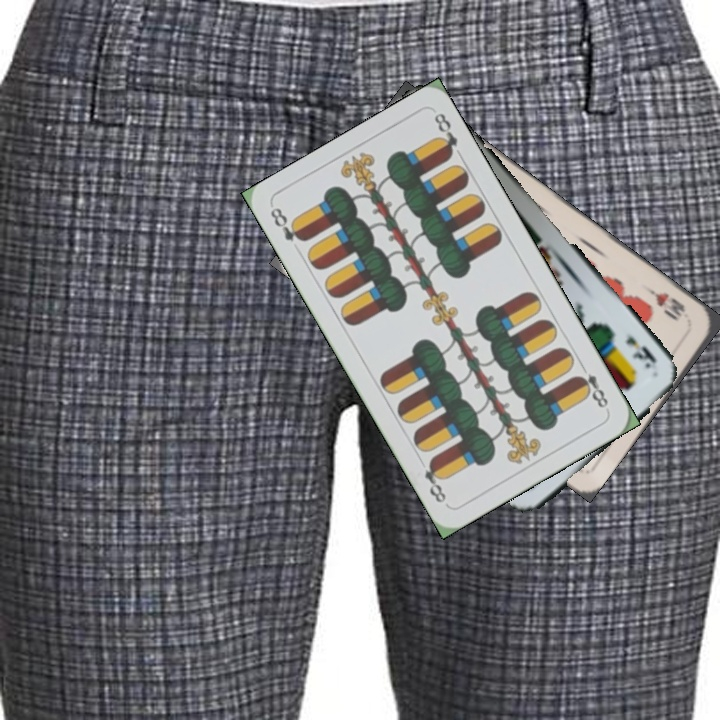E8: (572, 359, 611, 411), (266, 203, 308, 245)
EK: (621, 332, 659, 372)
H10: (642, 283, 688, 324)
